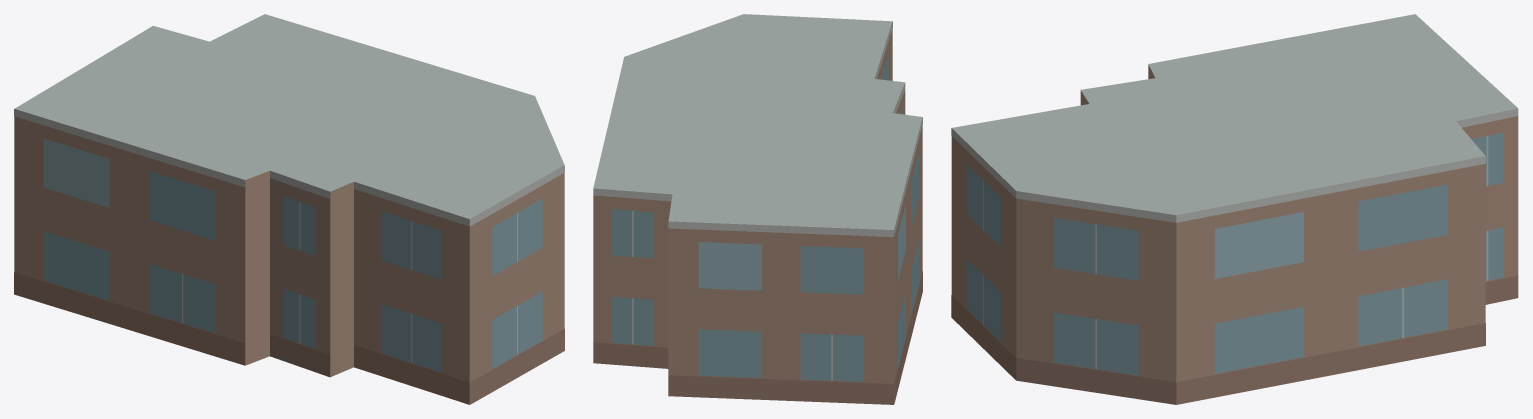
Rendered from survey-upis-32907042.glb.
The picture shows the model from 3 angles, left to right: view 1: azimuth 30°, elevation 25°; view 2: azimuth 150°, elevation 25°; view 3: azimuth 270°, elevation 25°; orthographic projection. The views are drawn at different scales.
Parts seen in each view (by area): view 1: survey-upis-32907042.tmp; view 2: survey-upis-32907042.tmp; view 3: survey-upis-32907042.tmp.
Boxes of the visible parts, <box> form: survey-upis-32907042.tmp: <box>14,14,564,404</box>; survey-upis-32907042.tmp: <box>593,14,922,404</box>; survey-upis-32907042.tmp: <box>951,14,1518,404</box>.
Bounding box in the file's own units: 13.9 × 6.1 × 16.54.
